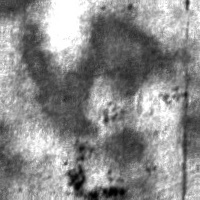inclusion: (60, 139, 130, 198)
patches: (17, 14, 173, 136), (92, 124, 154, 187), (3, 0, 53, 28)
